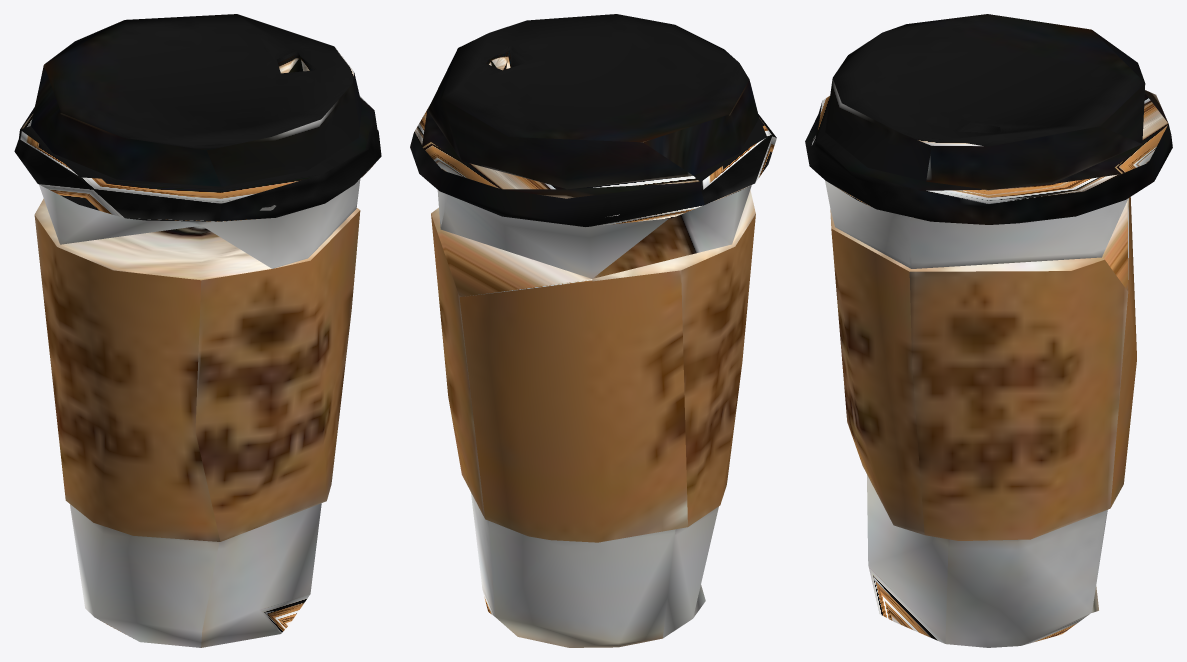
The model's file is cafe-decor.glb.
The picture shows the model from 3 angles, left to right: view 1: azimuth 30°, elevation 25°; view 2: azimuth 150°, elevation 25°; view 3: azimuth 270°, elevation 25°; orthographic projection.
Visible parts, largest first — view 1: Copo de café; view 2: Copo de café; view 3: Copo de café.
Part boxes in pixels (<box>): Copo de café: <box>14,14,381,647</box>; Copo de café: <box>410,14,776,647</box>; Copo de café: <box>805,14,1172,647</box>.
Bounding box in the file's own units: 0.0769 × 0.1198 × 0.0764.
Materials: 1 (1 with a texture image).
